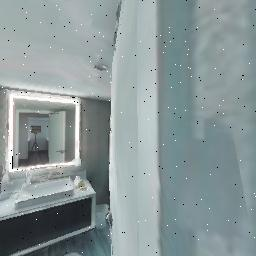sink: (17, 165, 80, 213)
